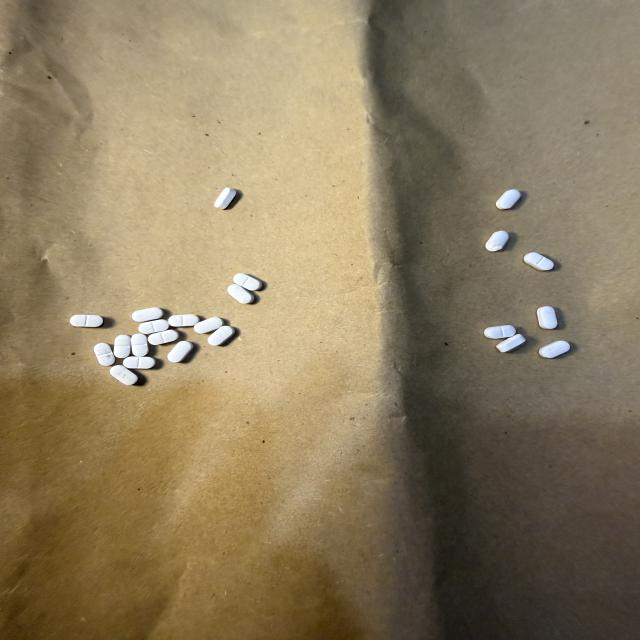pill: (524, 252, 554, 271), (208, 325, 235, 346), (167, 341, 193, 362), (110, 365, 137, 385), (539, 341, 570, 358), (536, 306, 558, 329), (497, 334, 525, 352), (148, 329, 179, 345), (138, 319, 170, 334), (228, 284, 253, 303), (194, 317, 223, 333), (233, 274, 262, 290), (496, 190, 520, 209), (215, 188, 236, 209), (94, 343, 114, 365), (486, 231, 508, 251), (132, 308, 163, 322), (114, 334, 132, 358), (123, 356, 155, 369), (484, 326, 515, 339), (70, 315, 103, 327), (132, 334, 148, 356), (169, 314, 198, 326)
